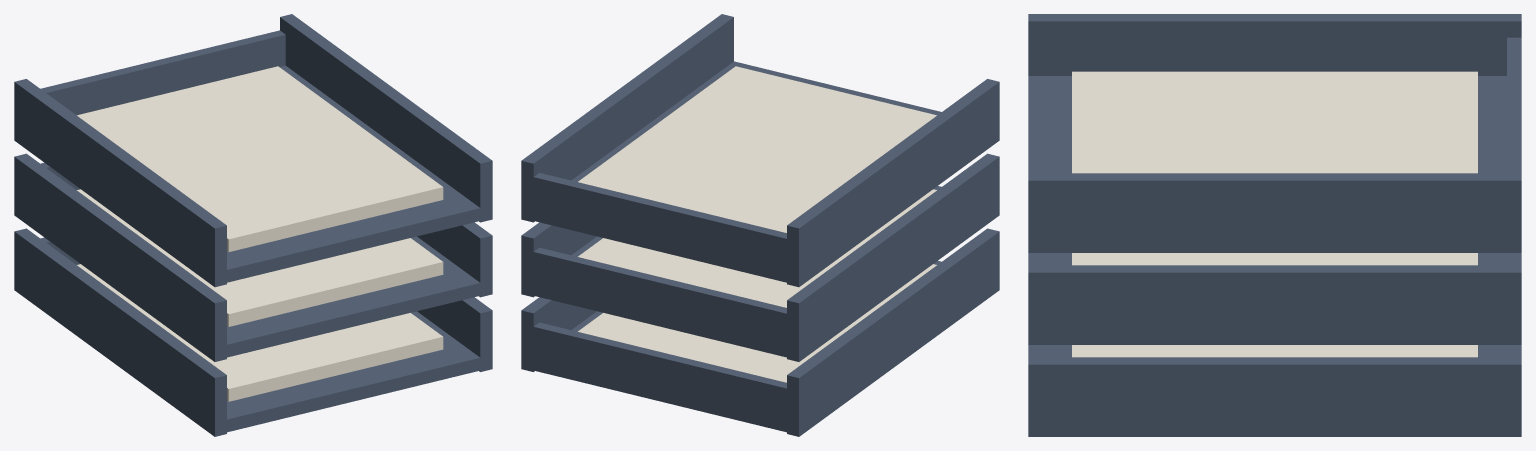
Rendered from officeLetterTray.glb.
The picture shows the model from 3 angles, left to right: view 1: azimuth 30°, elevation 25°; view 2: azimuth 150°, elevation 25°; view 3: azimuth 270°, elevation 25°; orthographic projection. The views are drawn at different scales.
Bounding box in the file's own units: 0.272 × 0.195 × 0.34.
